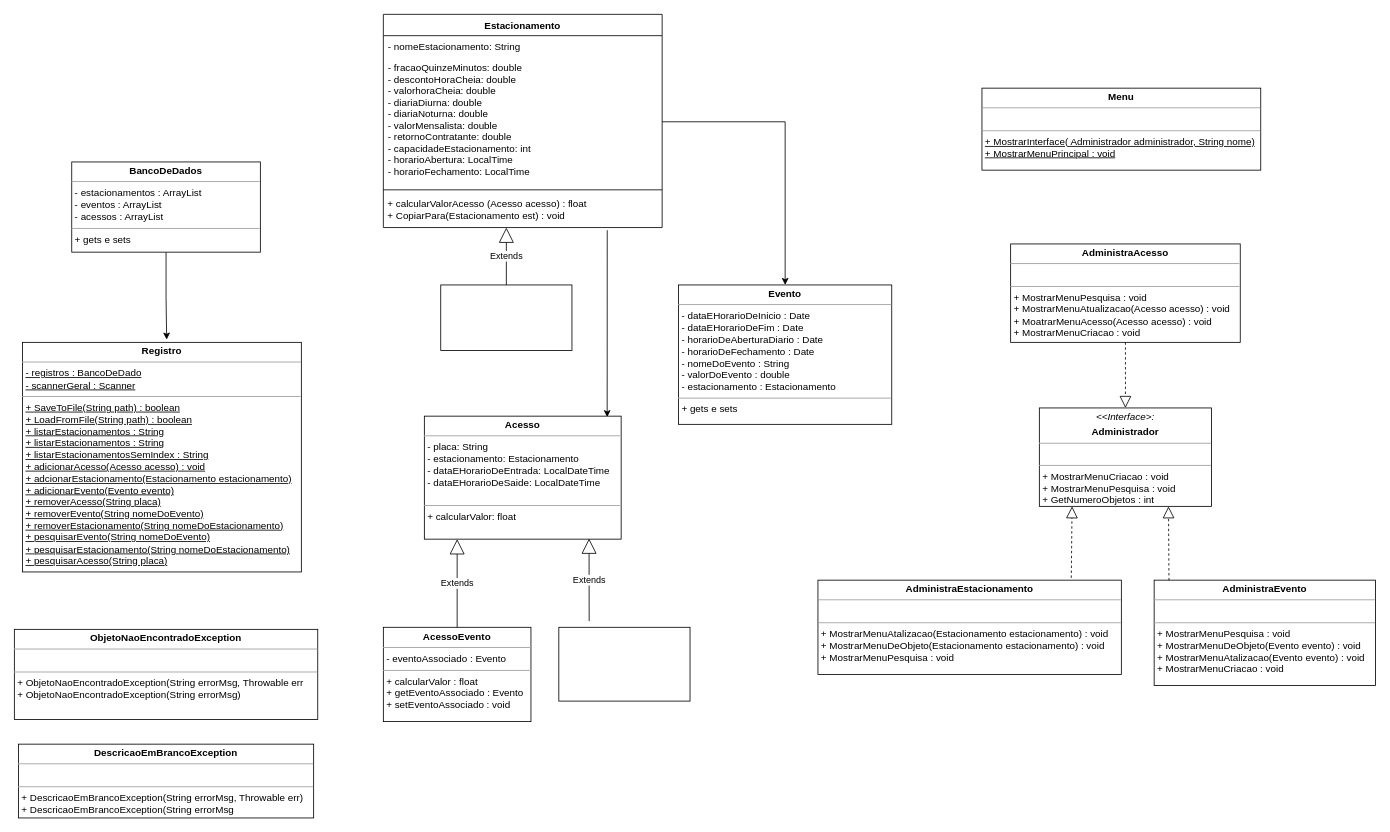
Some shapes in this 1390 by 832 pixel diagram are drawn without their labels. The shapes that lost their labels are listed below. From the top down, each one's centre as x and y in pixels, then its label:
[506,317]: Estacionamento24h + calcularValorAcesso : float
[624,663]: AcessoMensalista + calcularValor : float
